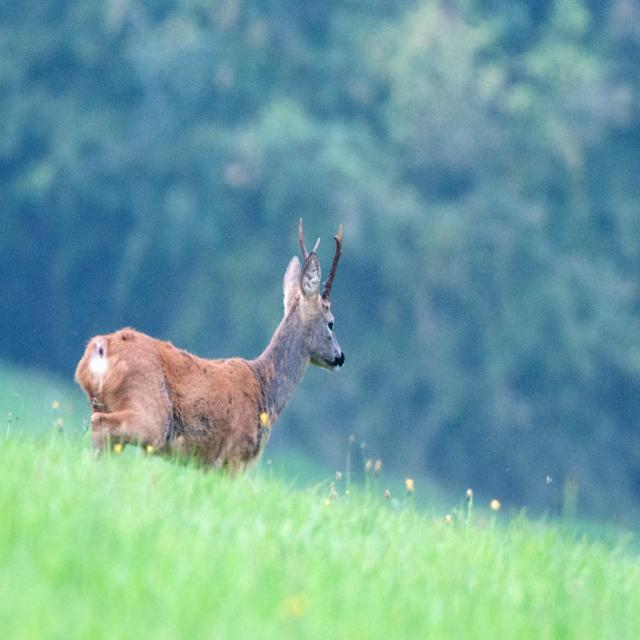Deer: (68, 216, 348, 483)
